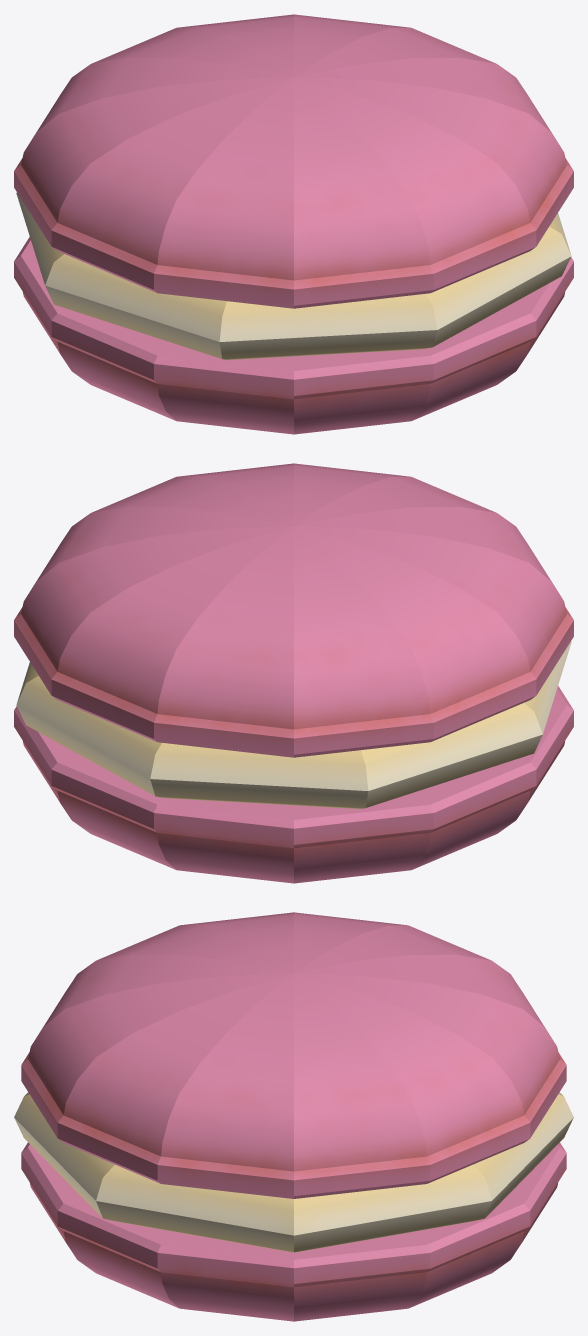
Rendered from Macaron002.fbx.
3 views of the same model, one above another, from view 1: azimuth 30°, elevation 25°; view 2: azimuth 150°, elevation 25°; view 3: azimuth 270°, elevation 25° (orthographic). The views are drawn at different scales.
Parts seen in each view (by area): view 1: macaroon1; view 2: macaroon1; view 3: macaroon1.
Boxes of the visible parts, x1,y1,x2,y2 form: macaroon1: (14, 14, 573, 434); macaroon1: (14, 463, 573, 883); macaroon1: (14, 912, 573, 1321).
Size of the model in its own units: 1.13 by 0.6398 by 1.13.
1 material, 1 textured.
